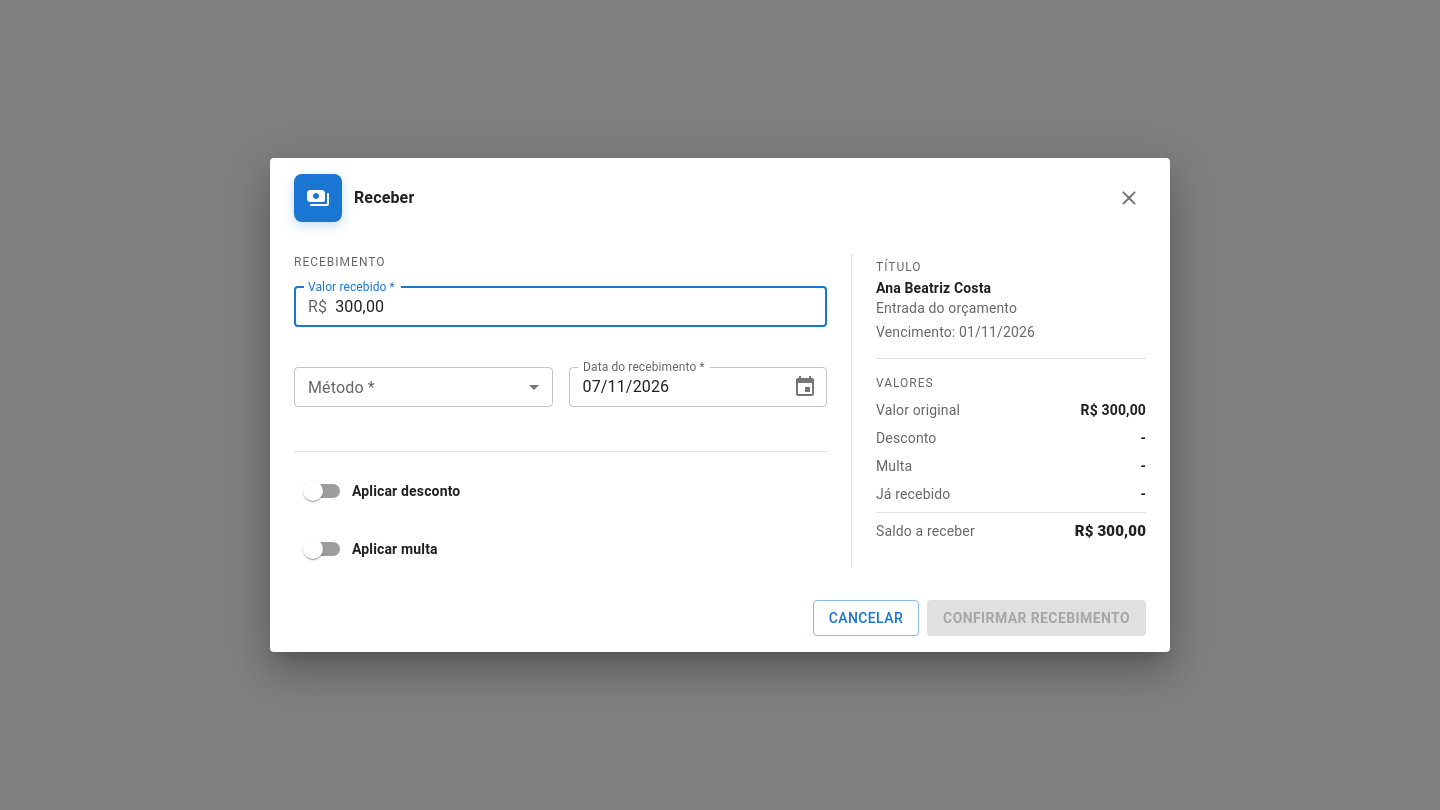
campo de valor com máscara de moeda › desconto em % aceita vírgula
This screenshot has width=1440, height=810.
Click the switch labelled "Aplicar desconto" at coordinates (382, 490), box 303,480 -> 460,500
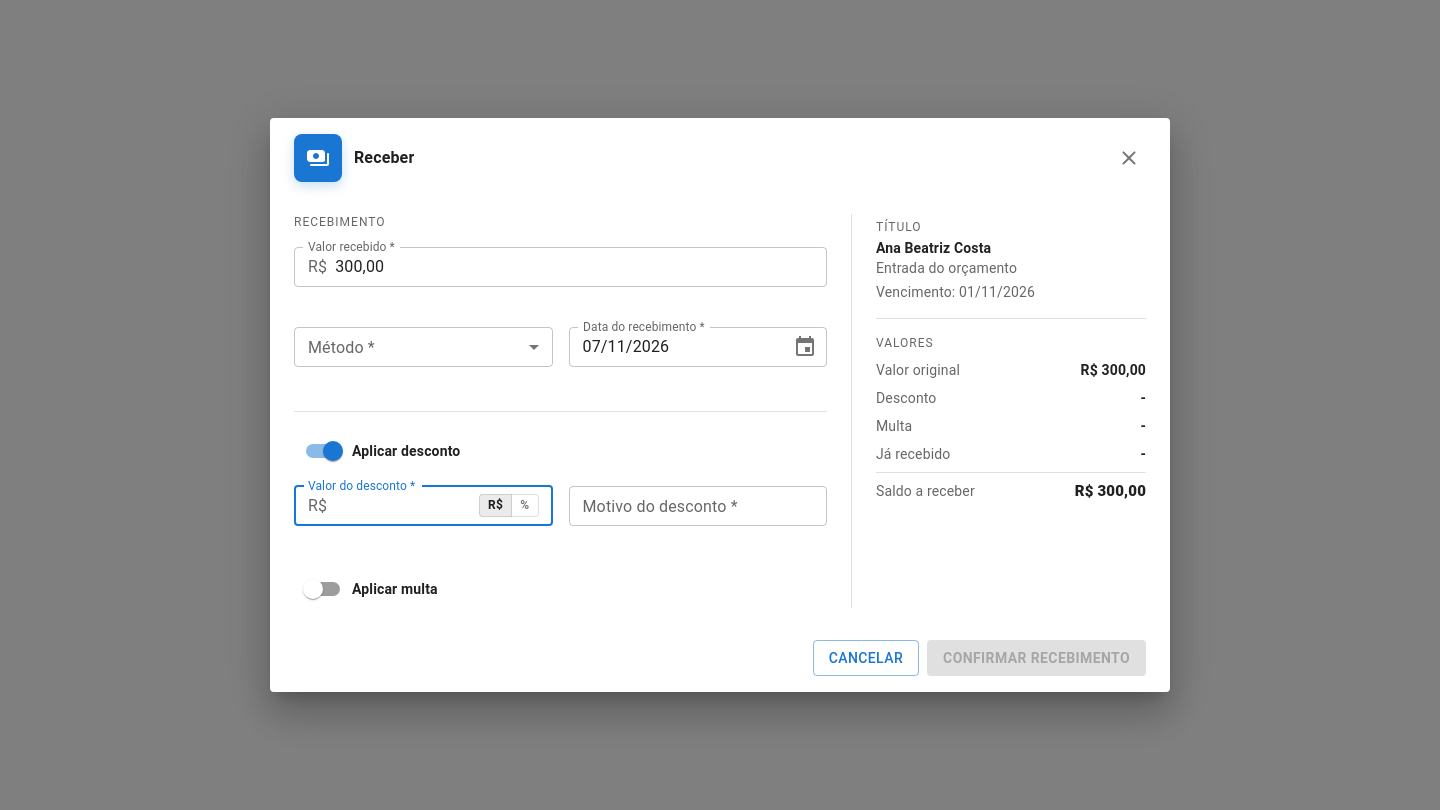
Click the button named "em porcentagem" at coordinates (525, 506), box 511,494 -> 538,517
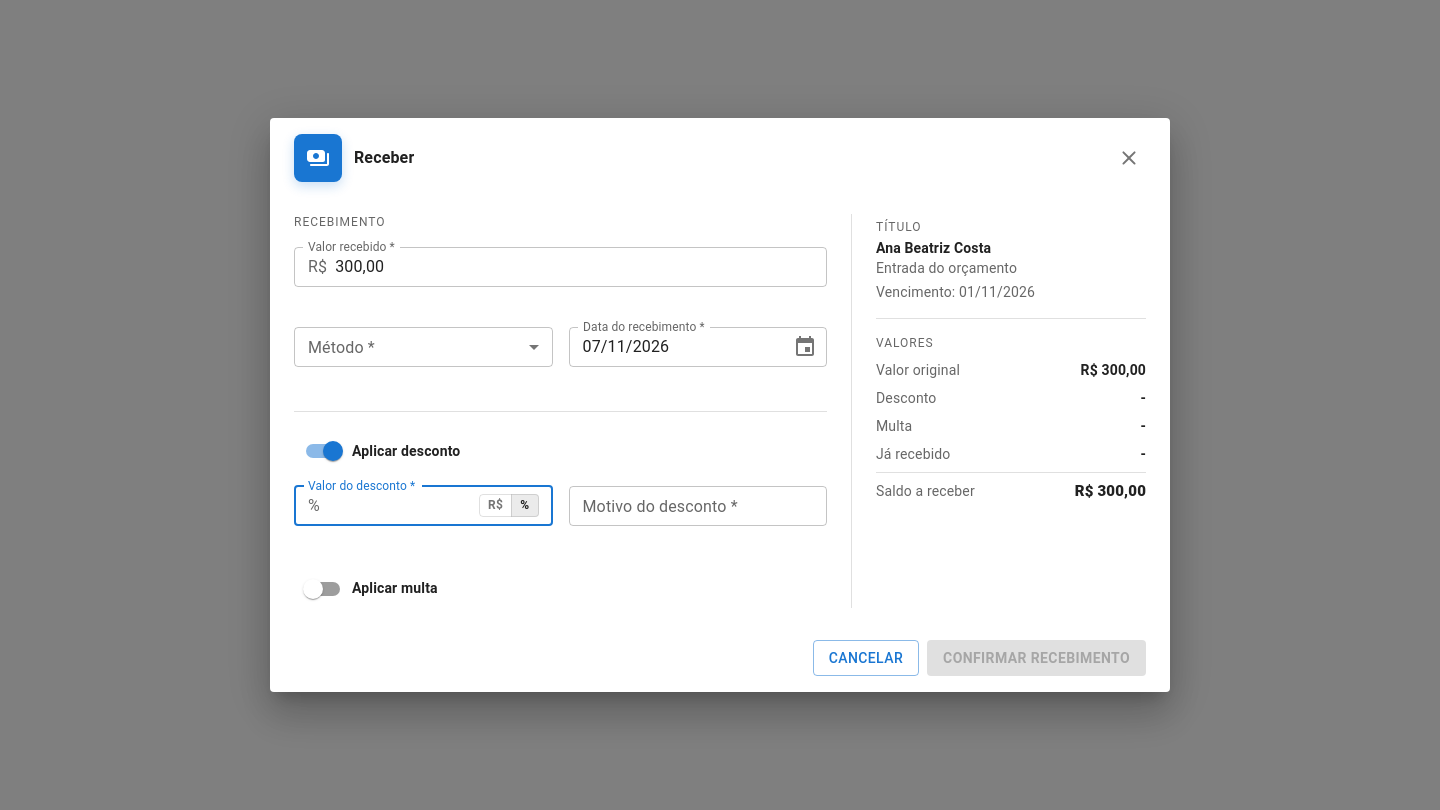
Type "2,5" into the field labelled "Valor do desconto *" at coordinates (400, 506), box 328,486 -> 471,526
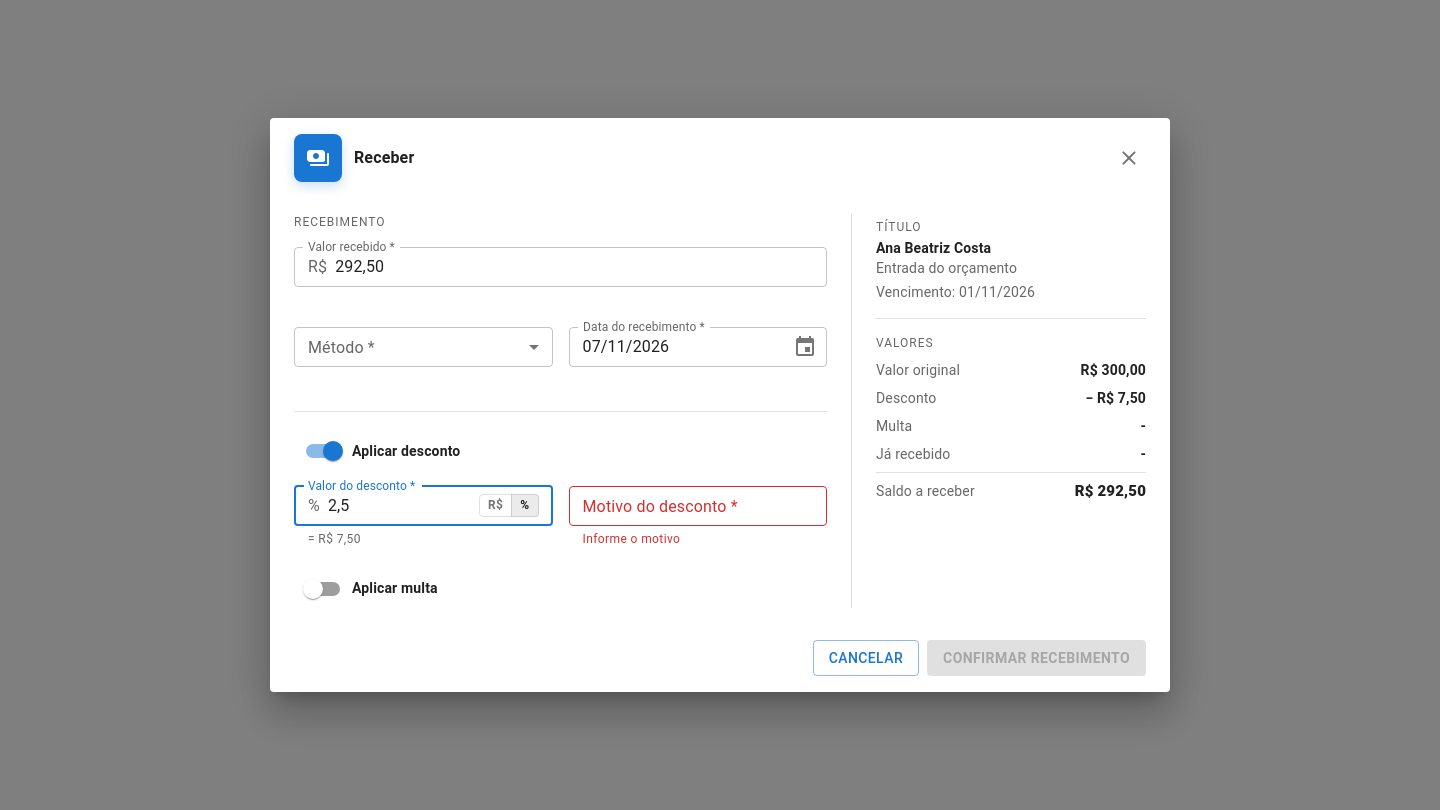
Expected: the text "= R$ 7,50" is shown, 308,532 -> 361,546
